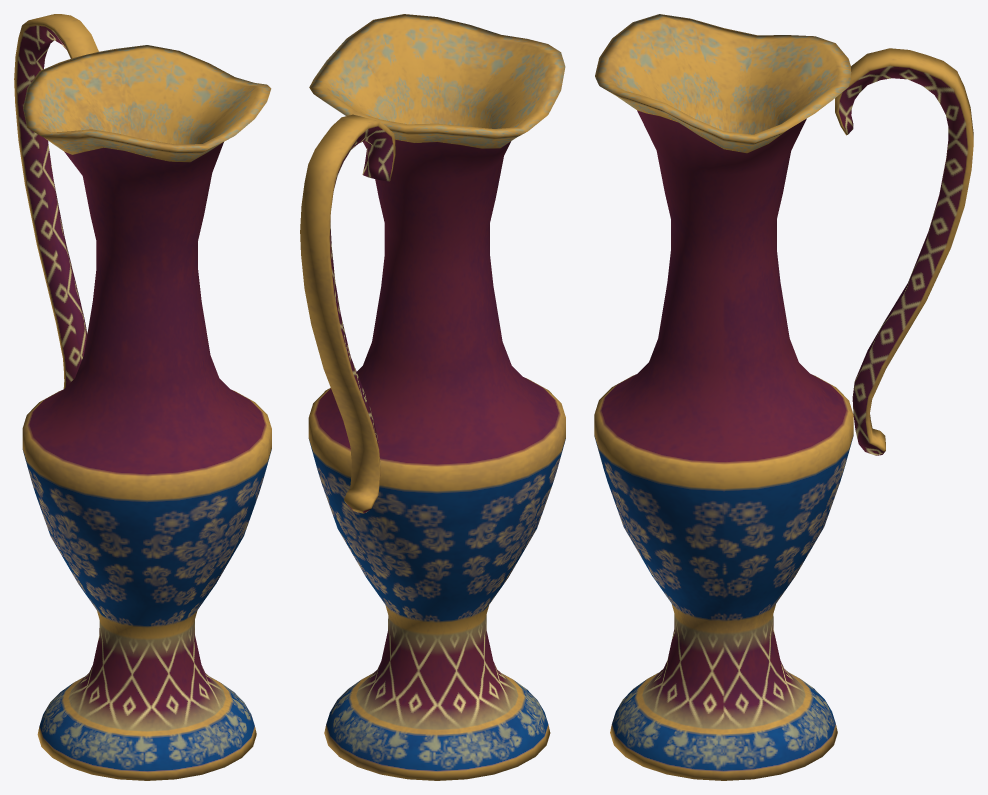
File: SM_Vase_04.fbx
The picture shows the model from 3 angles, left to right: view 1: azimuth 30°, elevation 25°; view 2: azimuth 150°, elevation 25°; view 3: azimuth 270°, elevation 25°; orthographic projection. The views are drawn at different scales.
Parts seen in each view (by area): view 1: SM_Vase_04_LOD0; view 2: SM_Vase_04_LOD0; view 3: SM_Vase_04_LOD0.
Boxes of the visible parts, left/top/right/bottom form: SM_Vase_04_LOD0: left=14, top=14, right=271, bottom=780; SM_Vase_04_LOD0: left=300, top=14, right=565, bottom=780; SM_Vase_04_LOD0: left=594, top=14, right=973, bottom=780.
Size of the model in its own units: 25.83 by 37.8 by 74.57.
